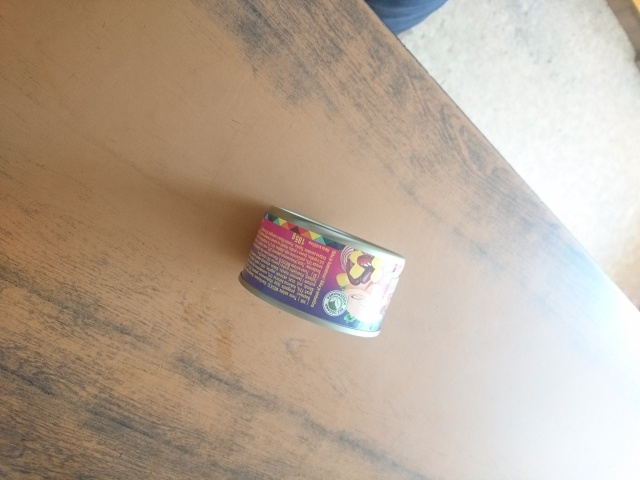Giana Tuna Salad Mexico 185g: (235, 202, 409, 340)
